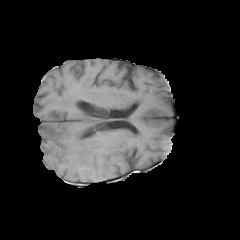glioma: (38, 98, 141, 181)
